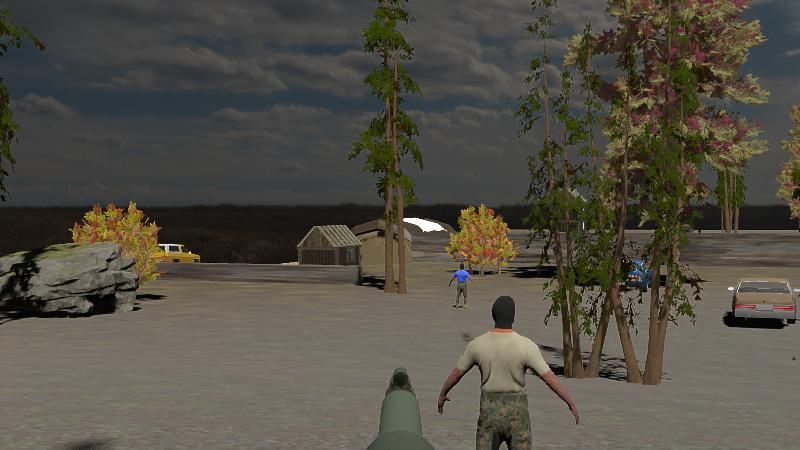House: (295, 223, 363, 266)
Human: (432, 292, 584, 450), (447, 261, 477, 310)
car: (725, 274, 799, 328), (147, 242, 201, 266)
